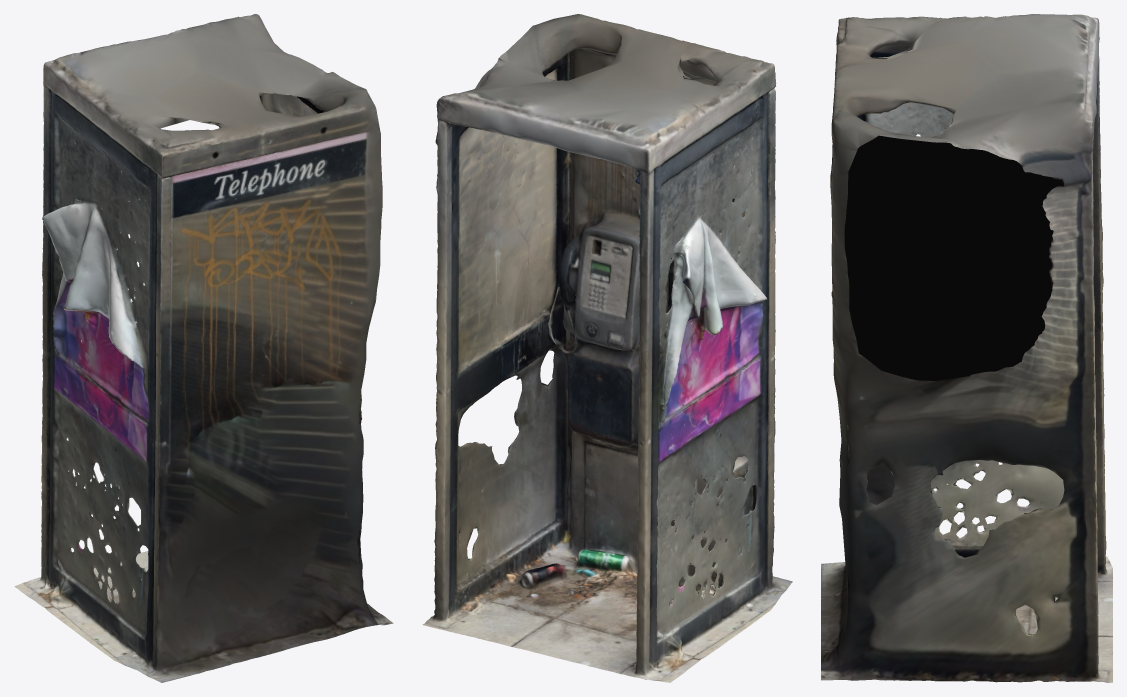
File: 3DModel_Custom.glb
3 renders of one model, left to right at view 1: azimuth 30°, elevation 25°; view 2: azimuth 150°, elevation 25°; view 3: azimuth 270°, elevation 25°, orthographic. The views are drawn at different scales.
Parts seen in each view (by area): view 1: 3DModel_Custom; view 2: 3DModel_Custom; view 3: 3DModel_Custom.
Part boxes in pixels (x1,y1,x2,y2): 3DModel_Custom: (14,14,393,682); 3DModel_Custom: (422,14,792,682); 3DModel_Custom: (821,14,1112,682).
Bounding box in the file's own units: 0.5271 × 1.11 × 0.5141.
Materials: 1 (1 with a texture image).
